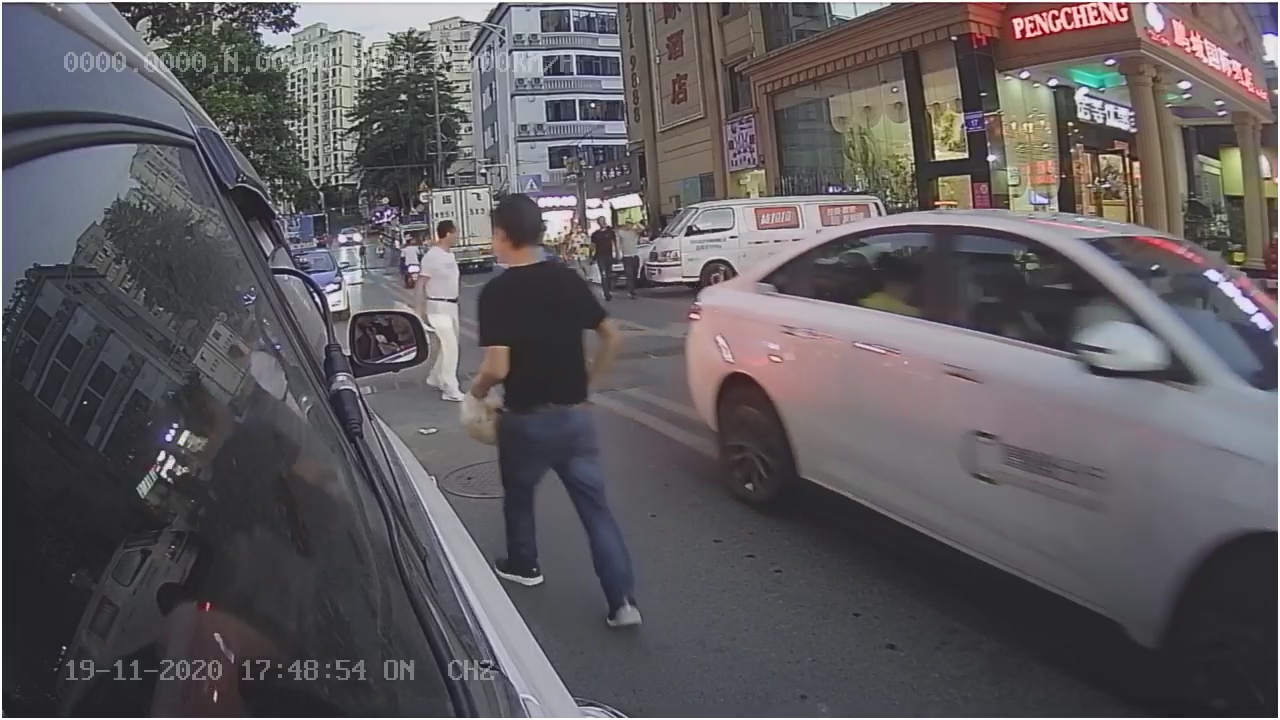person: (464, 198, 624, 533)
